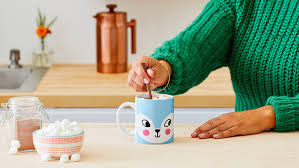mug: (110, 85, 187, 152)
